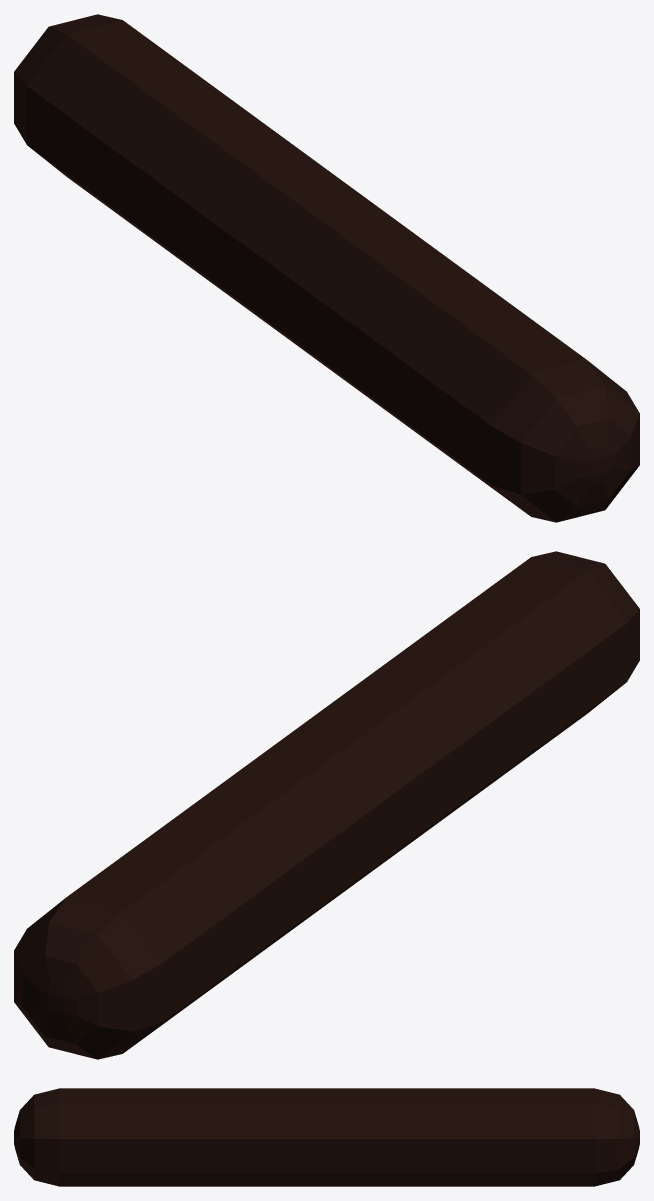
Rendered from Sausage_Cooked.obj.
3 views of the same model, one above another, from view 1: azimuth 30°, elevation 25°; view 2: azimuth 150°, elevation 25°; view 3: azimuth 270°, elevation 25° (orthographic). The views are drawn at different scales.
Parts seen in each view (by area): view 1: Sausage_Cooked_Cylinder.029; view 2: Sausage_Cooked_Cylinder.029; view 3: Sausage_Cooked_Cylinder.029.
Part boxes in pixels (x1=…): Sausage_Cooked_Cylinder.029: x1=14, y1=14, x2=639, y2=522; Sausage_Cooked_Cylinder.029: x1=14, y1=551, x2=639, y2=1059; Sausage_Cooked_Cylinder.029: x1=14, y1=1088, x2=639, y2=1186.
Size of the model in its own units: 0.2396 by 0.2413 by 1.66.
